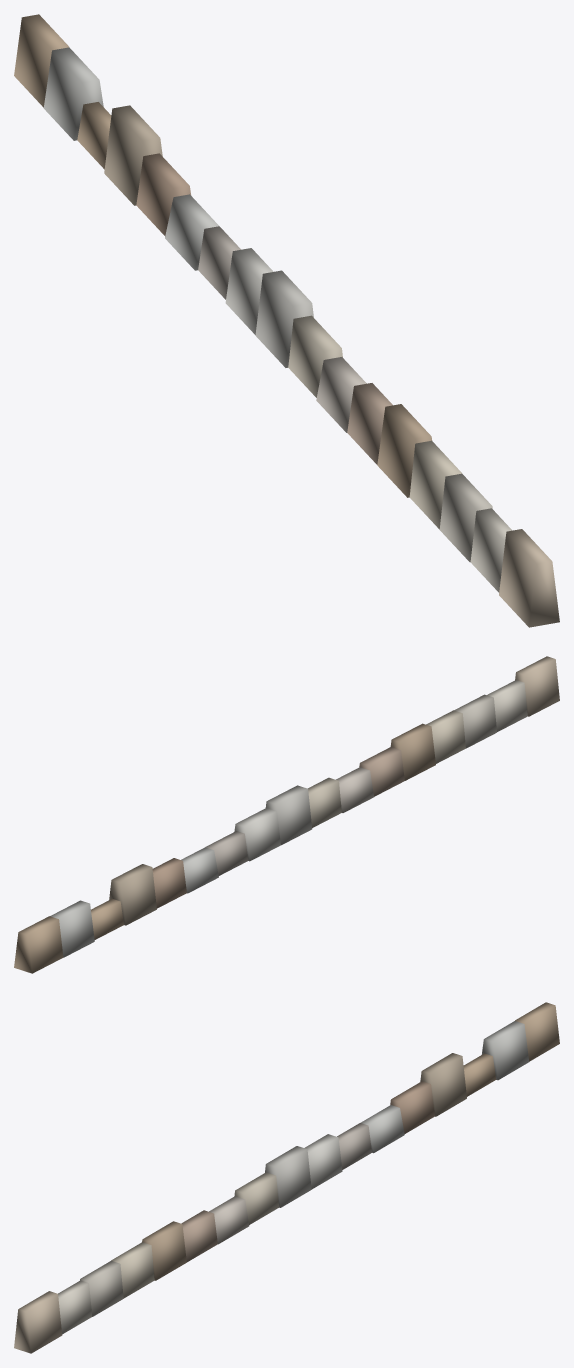
Rendered from farm_20_16_collision.glb.
3 renders of one model, top to bottom at view 1: azimuth 30°, elevation 25°; view 2: azimuth 150°, elevation 25°; view 3: azimuth 330°, elevation 25°, orthographic. The views are drawn at different scales.
Visible parts, largest first — view 1: geometry_0; view 2: geometry_0; view 3: geometry_0.
Boxes of the visible parts, left/top/right/bottom form: geometry_0: left=14, top=14, right=559, bottom=627; geometry_0: left=14, top=656, right=559, bottom=973; geometry_0: left=14, top=1002, right=559, bottom=1353.
Bounding box in the file's own units: 4.16 × 1.93 × 26.68.
